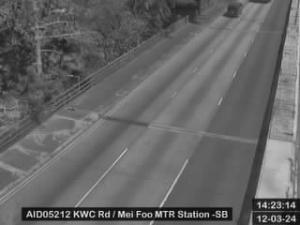vehicle: (228, 2, 242, 16)
